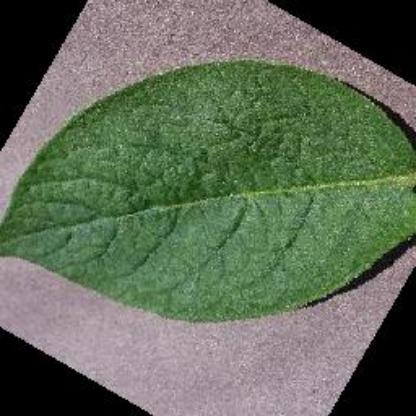Healthy-plant: (0, 52, 416, 326)
